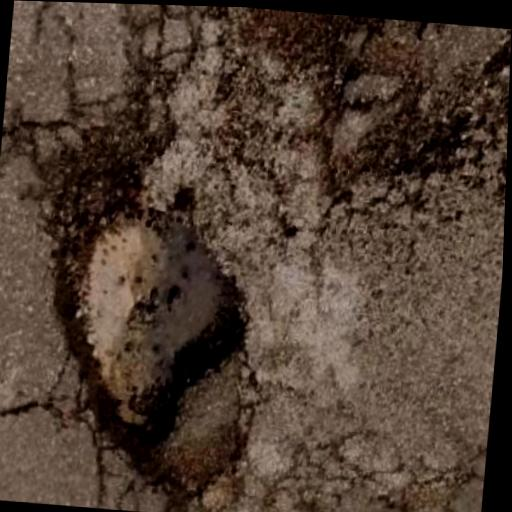pothole: (128, 215, 387, 512), (170, 34, 507, 134)
